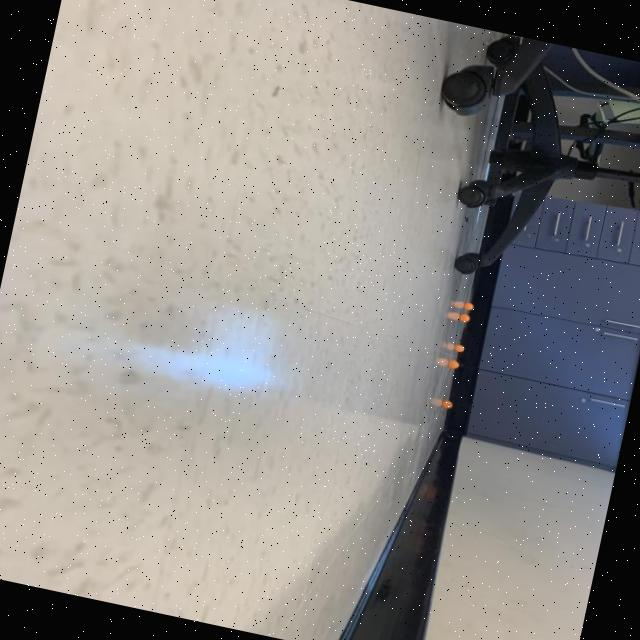ping-pong-ball: (458, 312, 471, 322), (447, 358, 460, 368), (463, 300, 475, 310), (454, 342, 466, 352), (441, 398, 453, 408)
